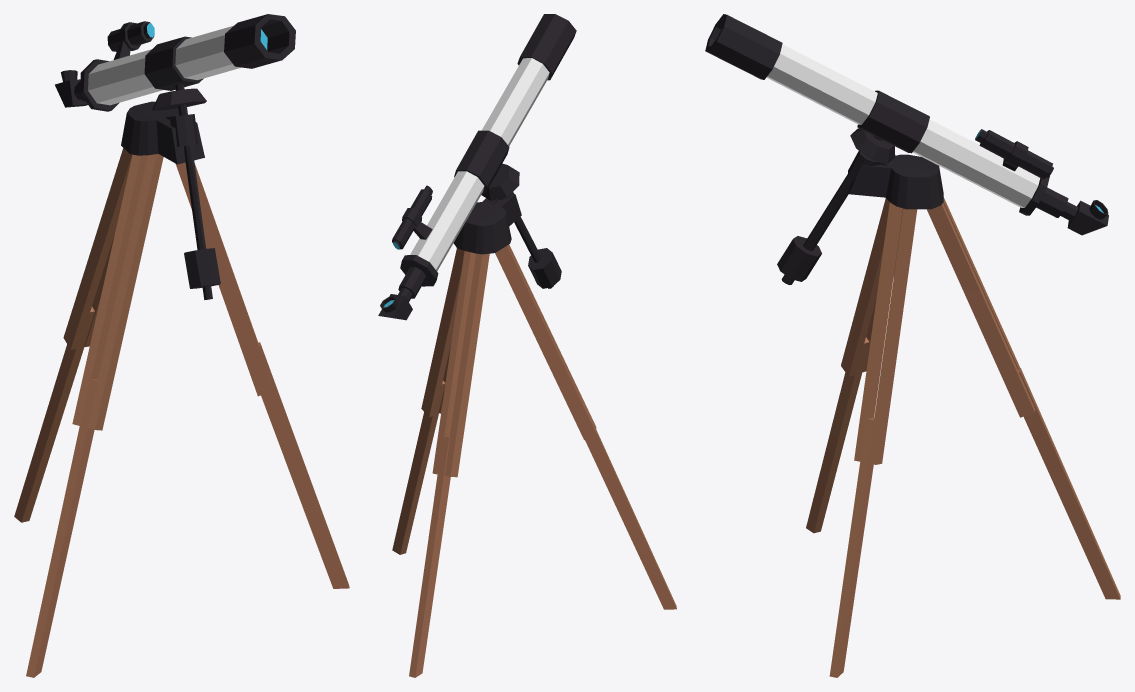
Rendered from telescope.glb.
3 renders of one model, left to right at view 1: azimuth 30°, elevation 25°; view 2: azimuth 150°, elevation 25°; view 3: azimuth 270°, elevation 25°, orthographic. The views are drawn at different scales.
Visible parts, largest first — view 1: Telescope; view 2: Telescope; view 3: Telescope.
Part boxes in pixels (x1,y1,x2,y2): Telescope: (14, 14, 349, 677); Telescope: (378, 14, 676, 677); Telescope: (705, 14, 1120, 677).
Size of the model in its own units: 1.08 by 2 by 1.26.
1 material, 1 textured.
